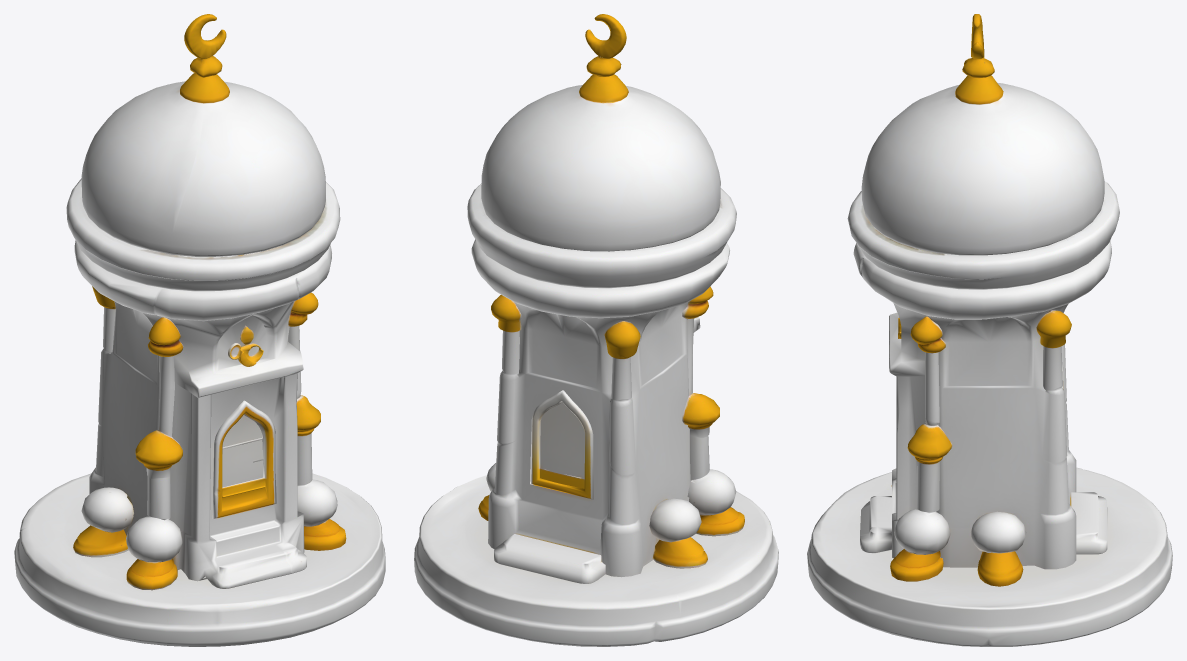
Rendered from brunei-envi-4.glb.
3 views of the same model, side by side, from view 1: azimuth 30°, elevation 25°; view 2: azimuth 150°, elevation 25°; view 3: azimuth 270°, elevation 25° (orthographic).
Visible parts, largest first — view 1: tripo_54be7566_7b90_4afe_99d7_5f0902429423; view 2: tripo_54be7566_7b90_4afe_99d7_5f0902429423; view 3: tripo_54be7566_7b90_4afe_99d7_5f0902429423.
Part boxes in pixels (x1=…): tripo_54be7566_7b90_4afe_99d7_5f0902429423: x1=14, y1=14, x2=385, y2=646; tripo_54be7566_7b90_4afe_99d7_5f0902429423: x1=414, y1=14, x2=778, y2=646; tripo_54be7566_7b90_4afe_99d7_5f0902429423: x1=807, y1=14, x2=1172, y2=646.
Bounding box in the file's own units: 0.6011 × 0.9995 × 0.5981.
1 material, 1 textured.
